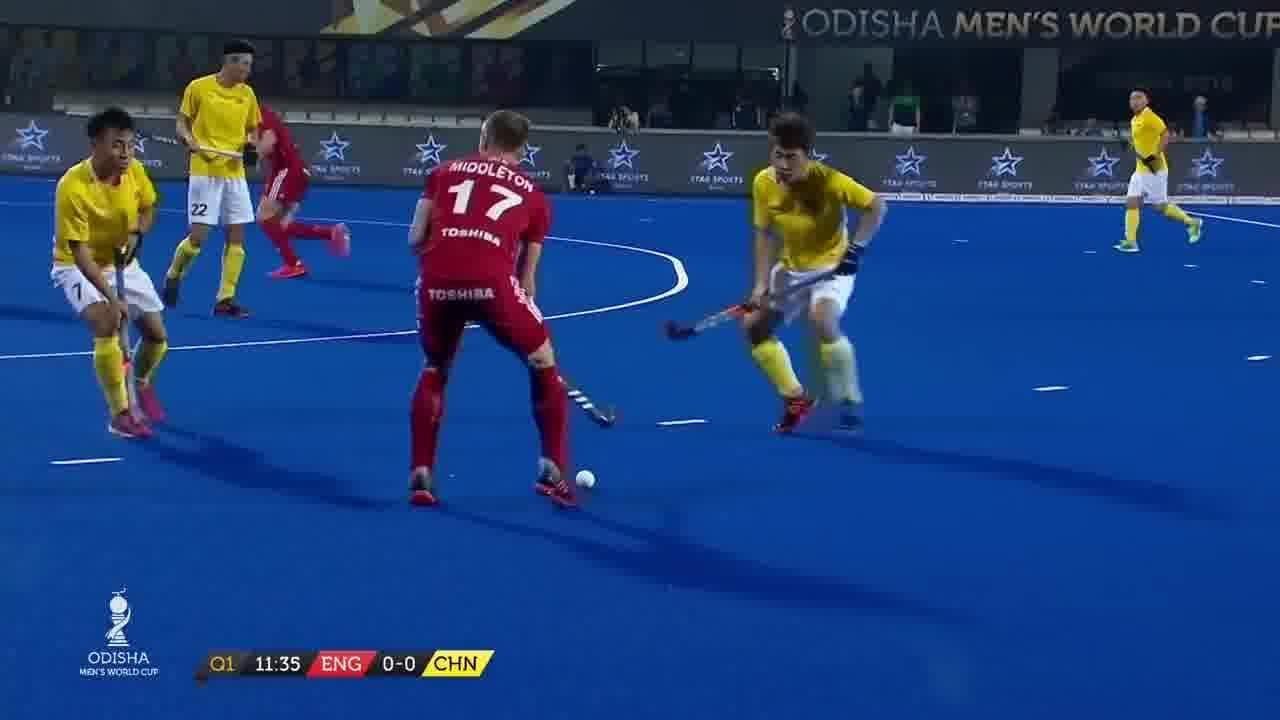ball: (568, 460, 608, 502)
